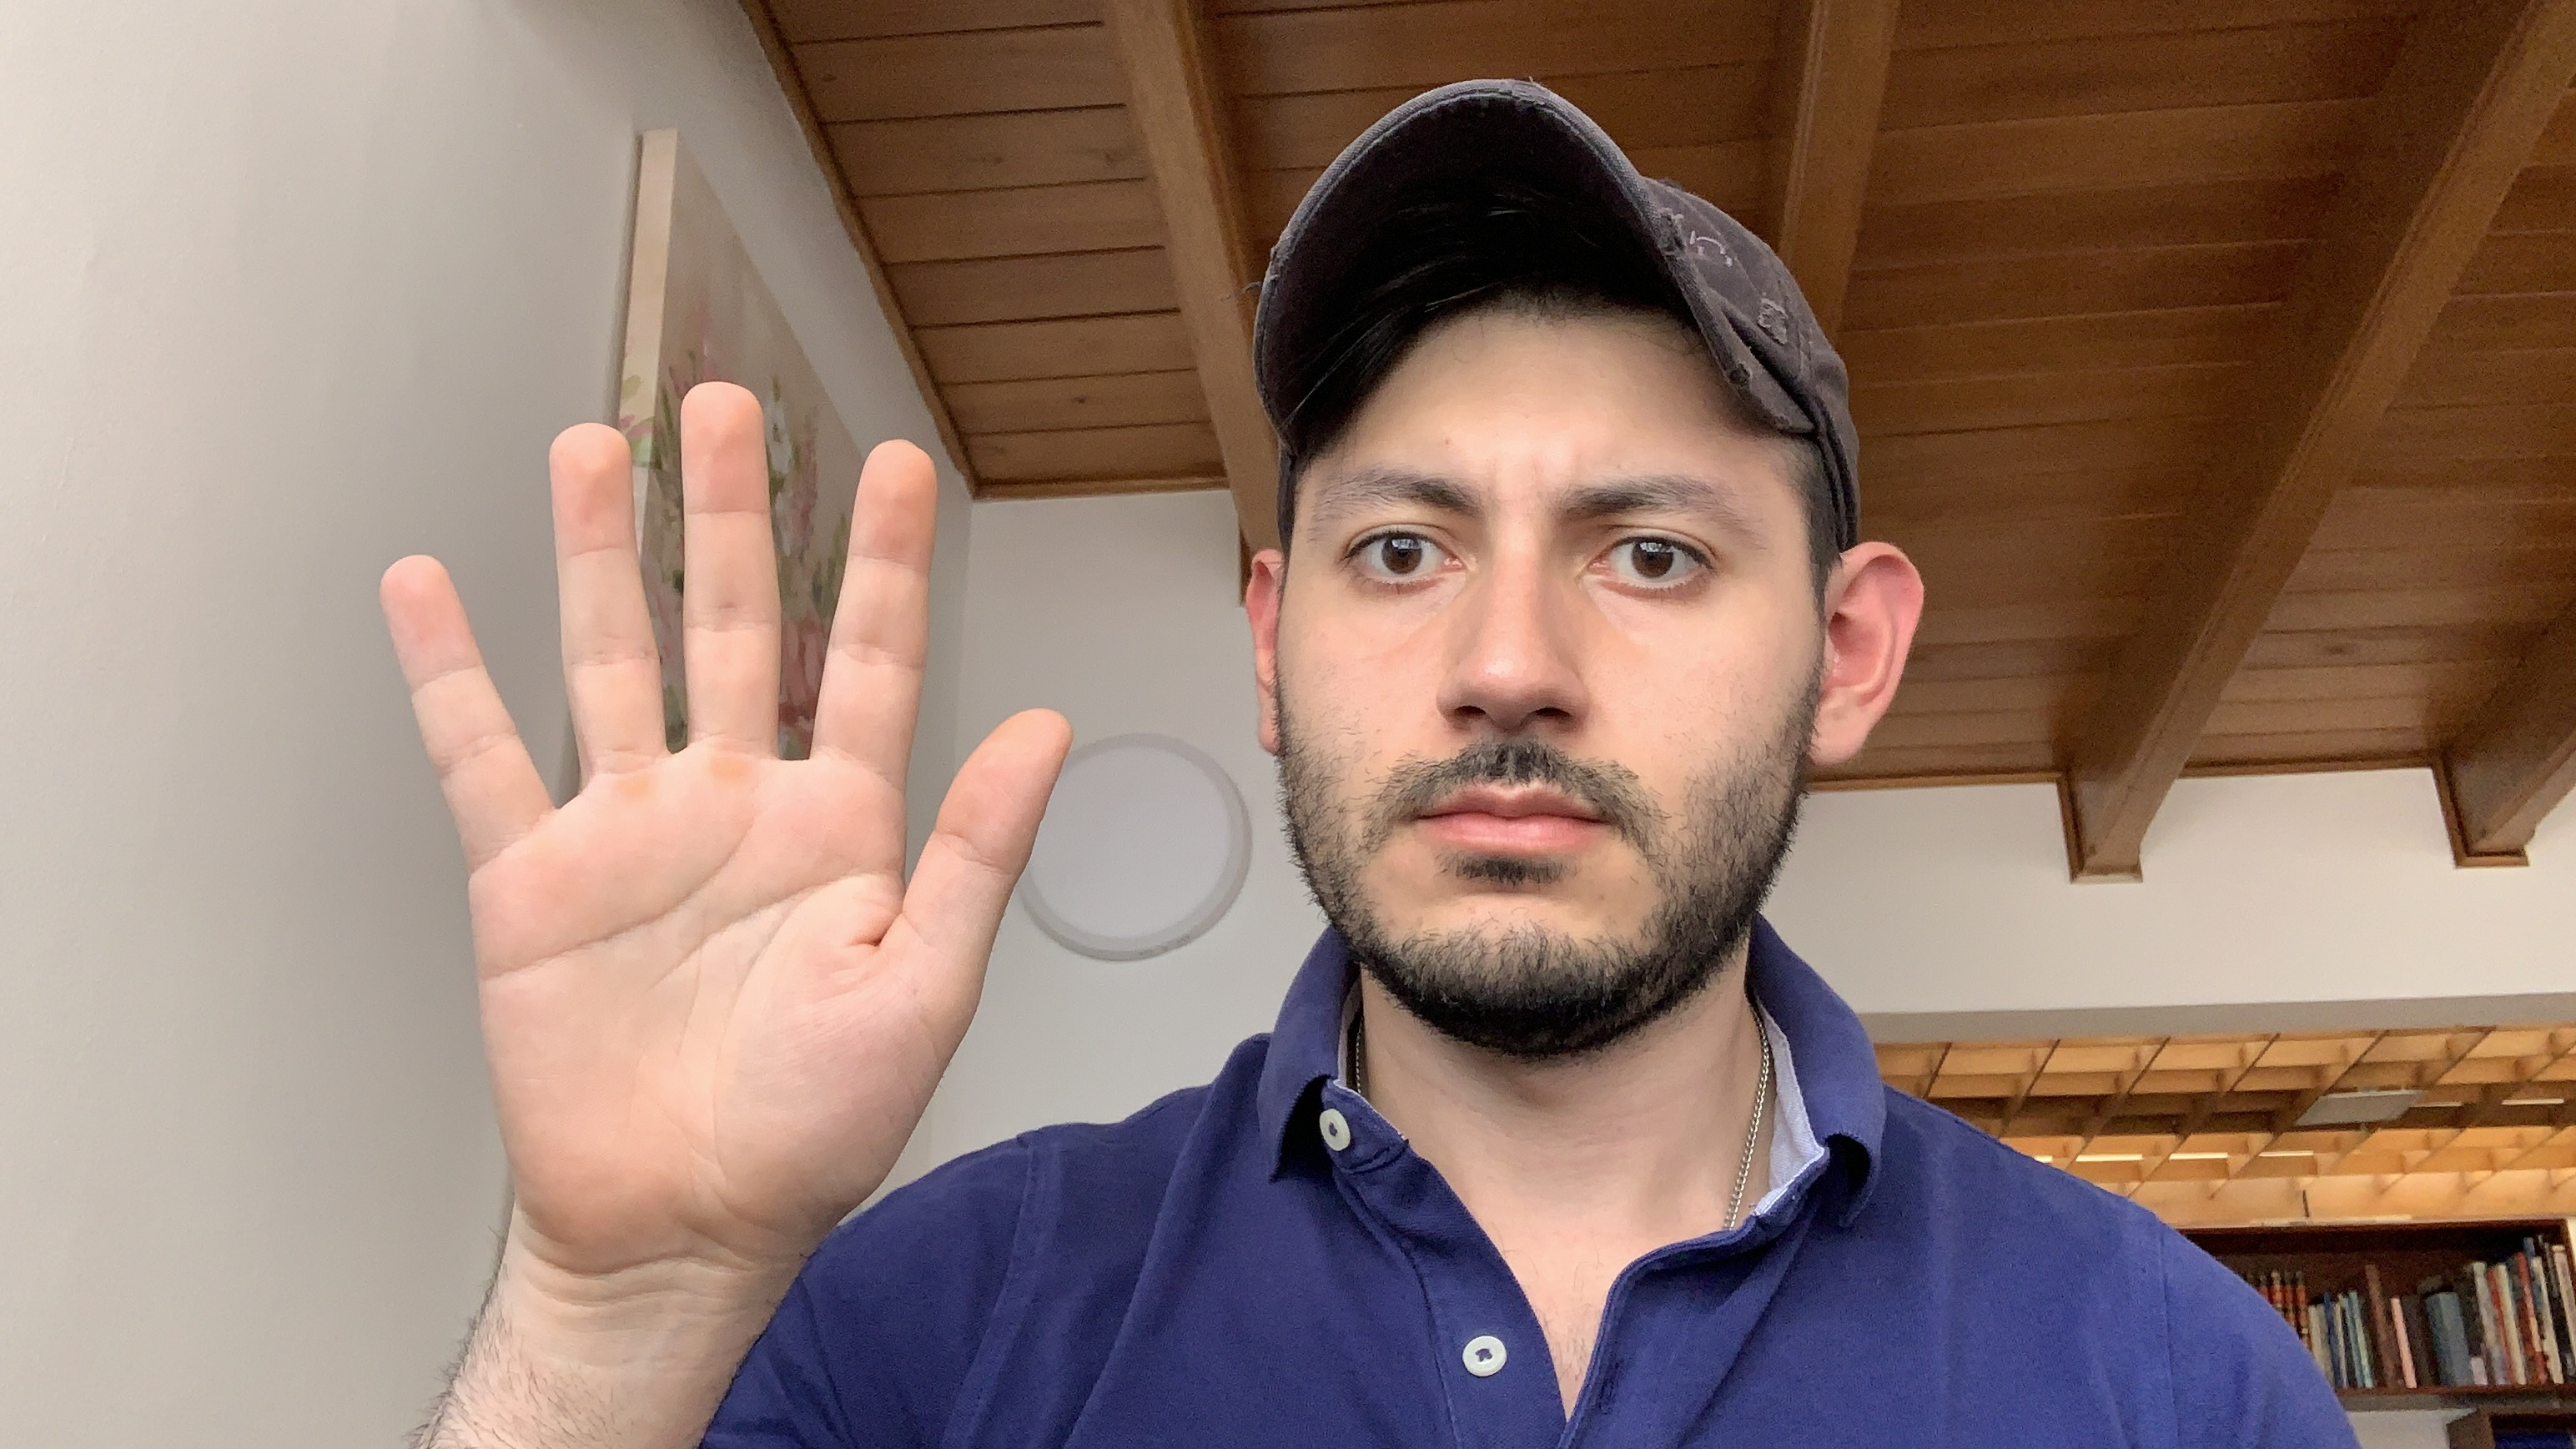Hello: (363, 370, 1097, 1318)
